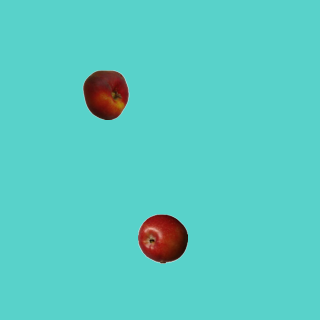Apple Braeburn: (137, 213, 187, 263)
Nectarine Flat: (80, 69, 130, 119)
